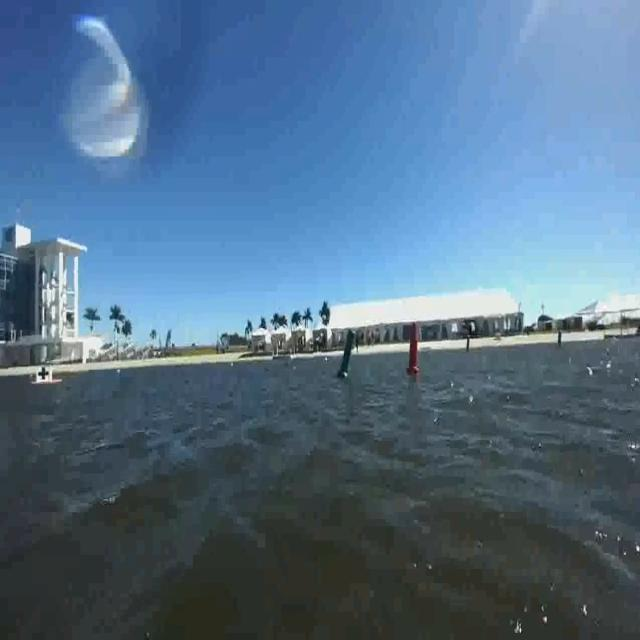green-column-buoy: (338, 326, 359, 379)
red-column-buoy: (407, 322, 423, 375)
